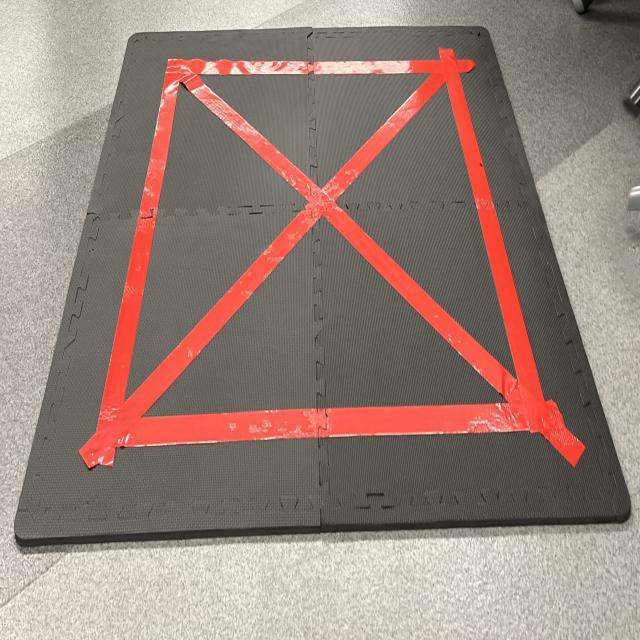landingPads: (15, 24, 632, 550)
